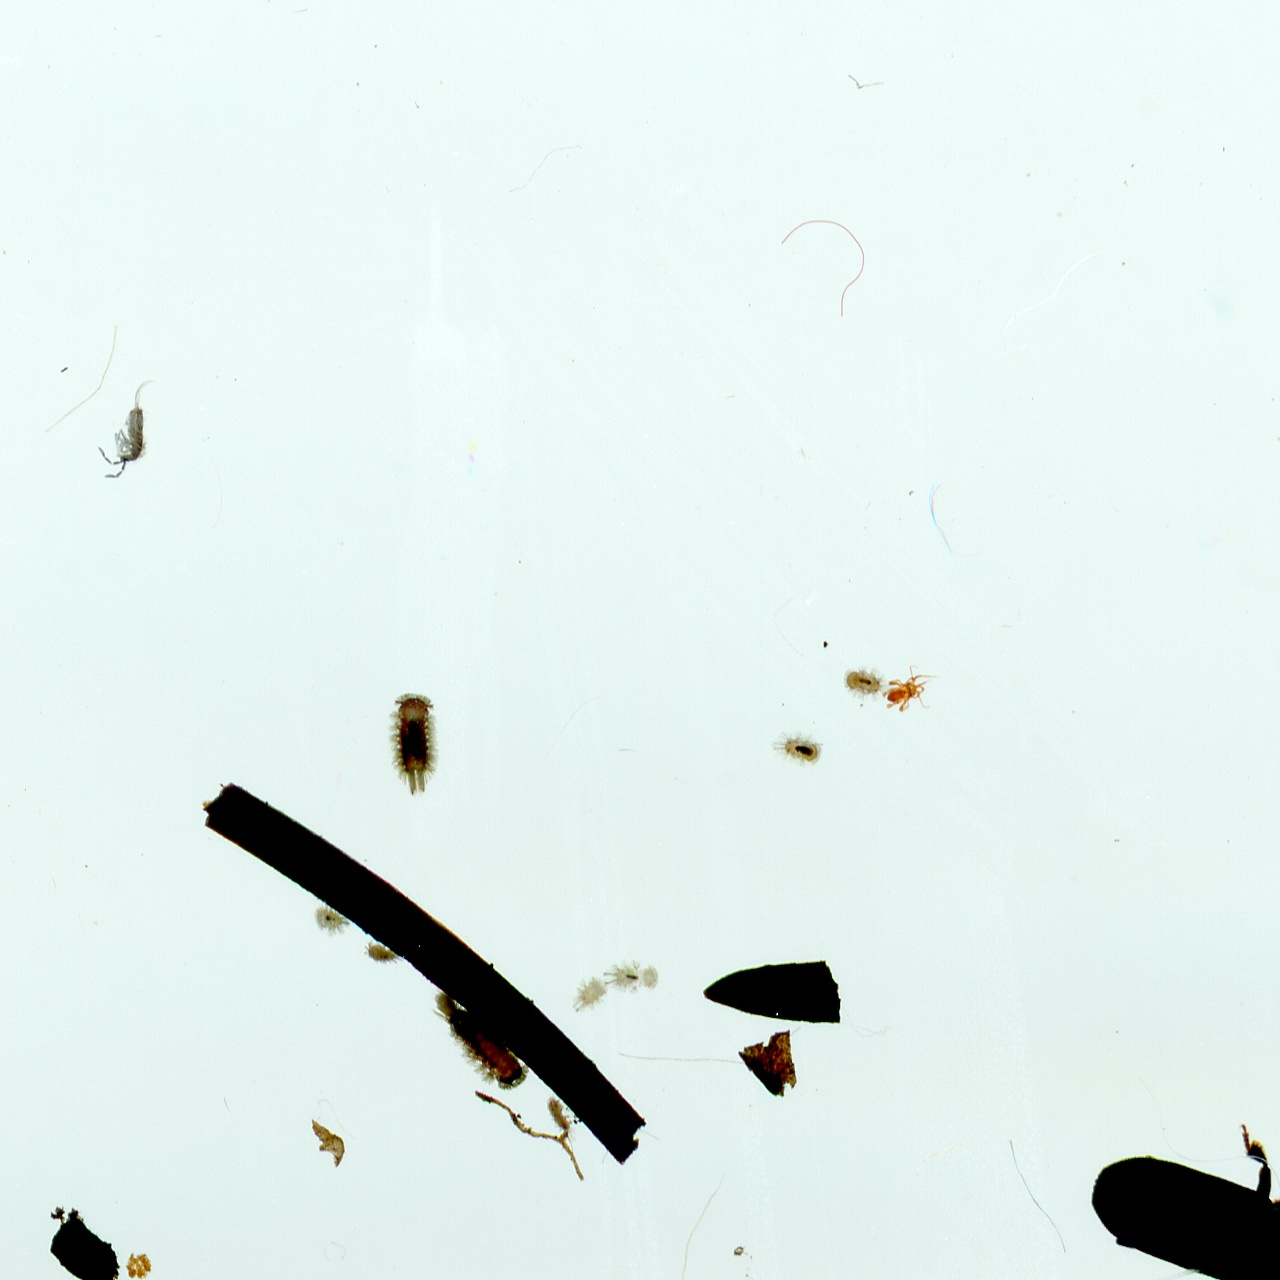arthropod: (1090, 1123, 1280, 1280), (429, 985, 530, 1090), (388, 686, 442, 797), (98, 377, 151, 483), (883, 662, 933, 715), (774, 729, 825, 769), (607, 958, 659, 993), (840, 663, 883, 699), (566, 976, 606, 1012), (543, 1091, 572, 1138), (365, 938, 402, 969), (315, 903, 347, 934)
